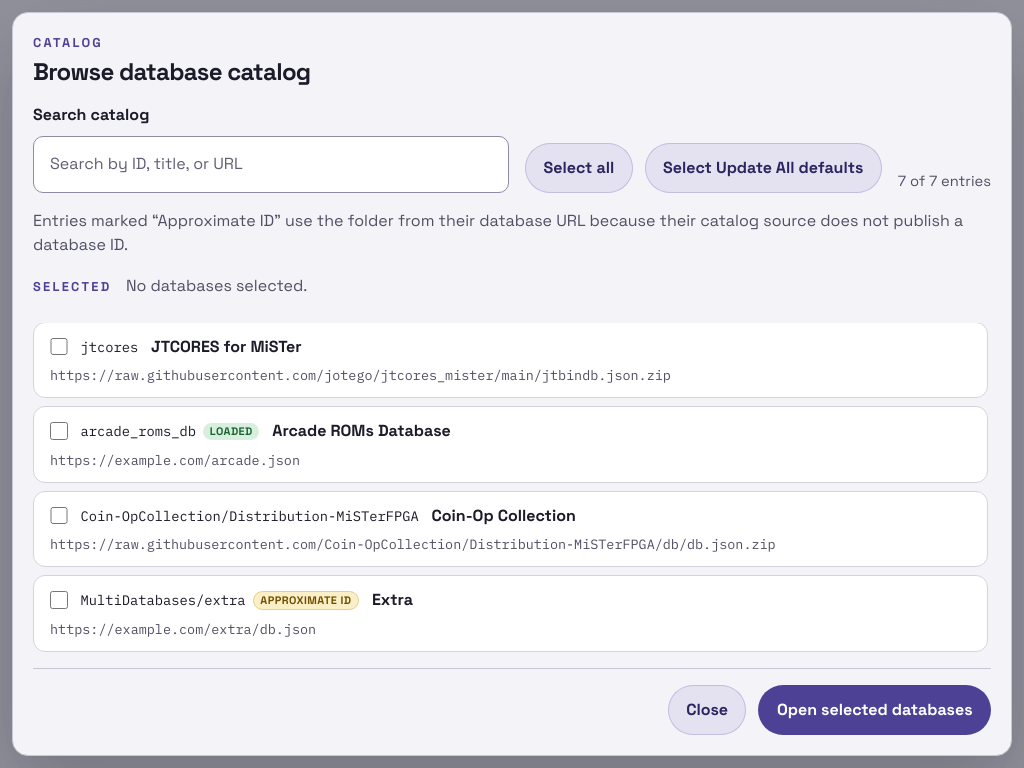
Test: the catalog picker › marks loaded databases and approximate IDs, and counts the selection on its Open button
(page scrolled)
Expected: the number of elements with class "catalog-loaded-badge" is 1, [203,423,260,440]
Click the checkbox named "Extra (MultiDatabases/extra)" at {"x": 59, "y": 600}, box [50,591,68,609]
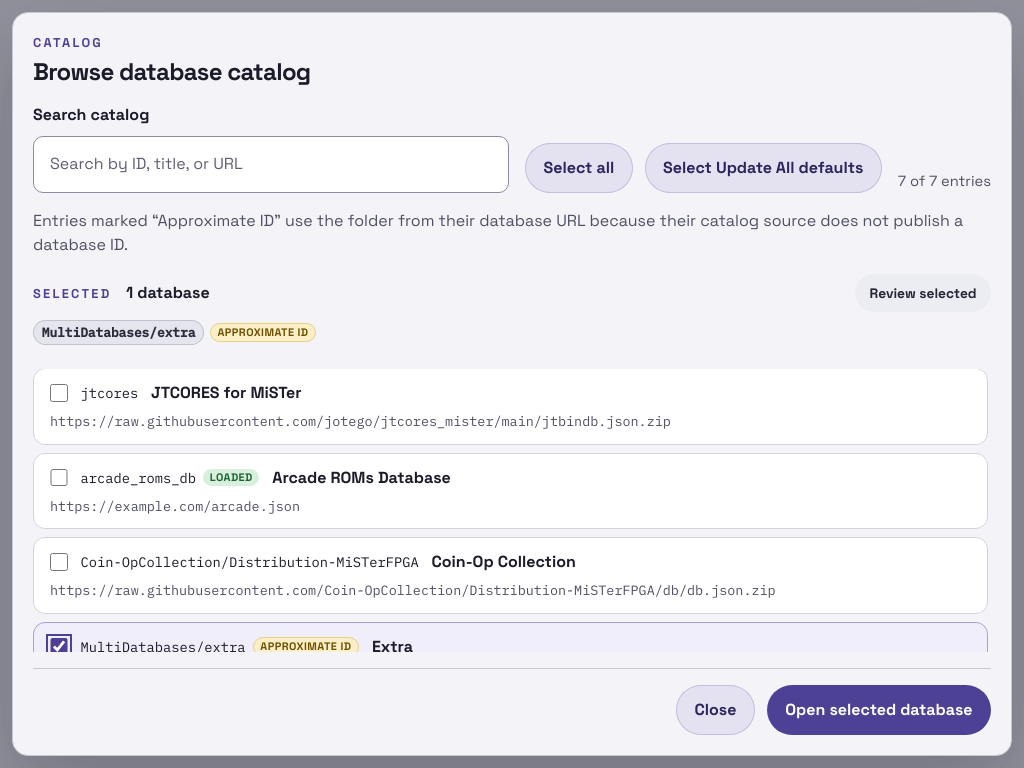
Result: the element with class "modal-selected" shows "MultiDatabases/extra" at [42,324,195,341]
Result: the element with class "modal-selected" shows "Approximate ID" at [218,325,309,339]
Result: the button "Open selected database" is enabled at [767,685,991,735]
